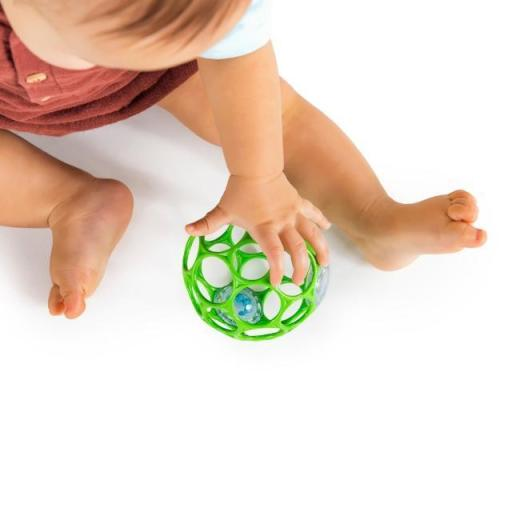baby: (0, 0, 488, 319)
